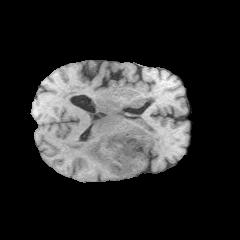glioma: (75, 123, 149, 169)
